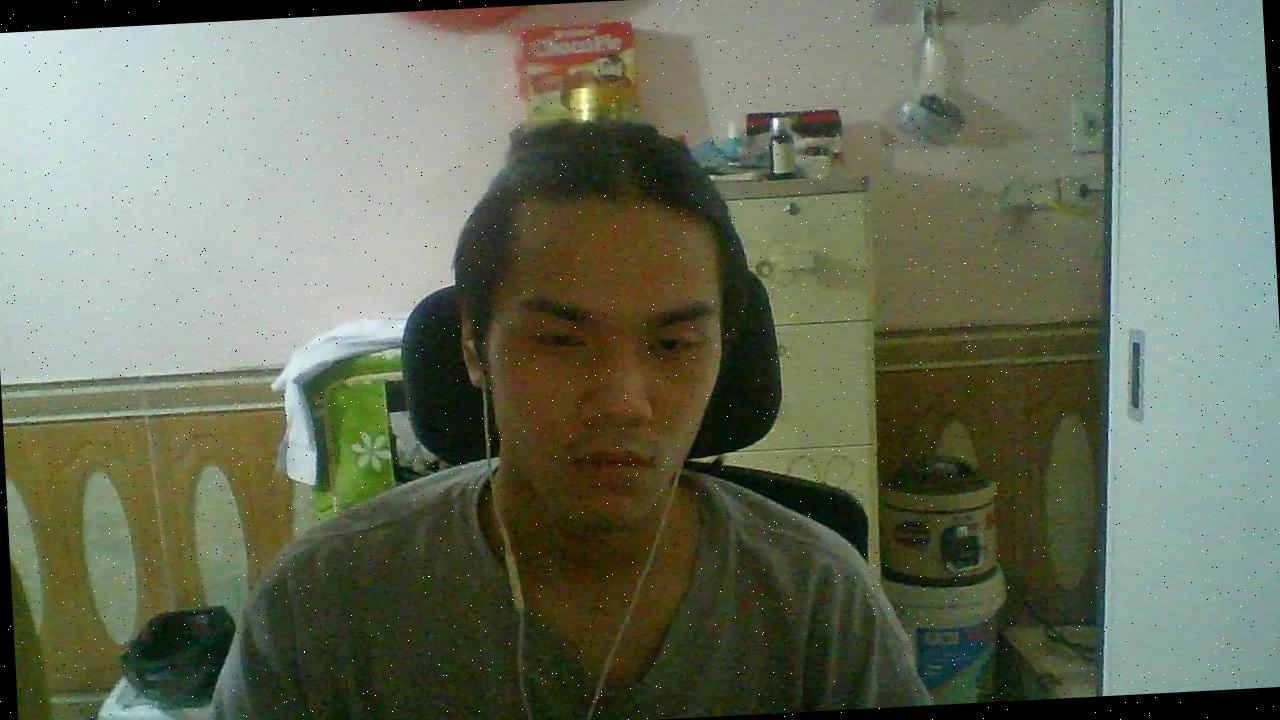Drowsy: (430, 106, 779, 560)
